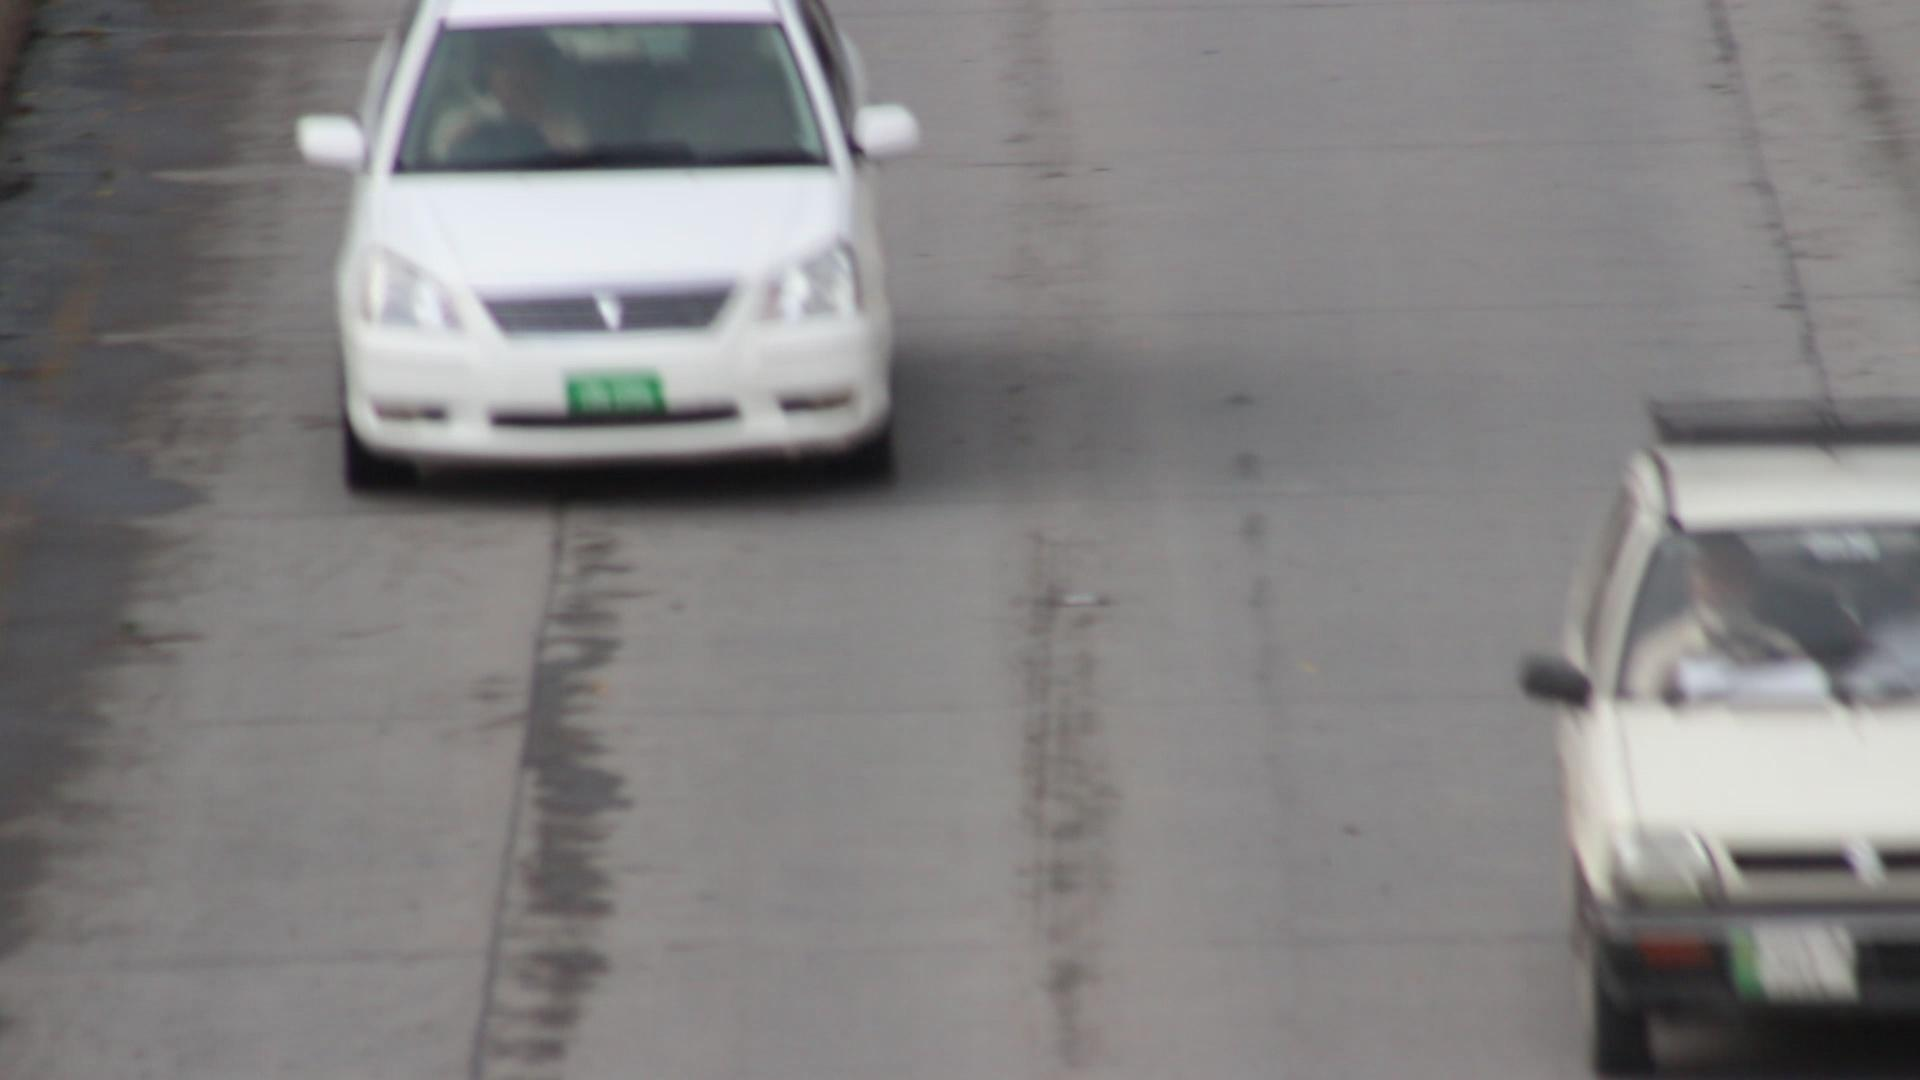windshield: (384, 13, 840, 177)
